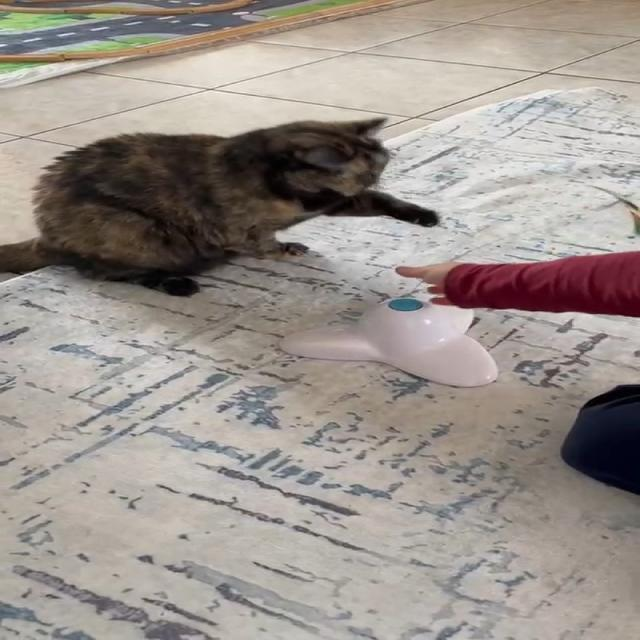authorized: (0, 115, 439, 298)
